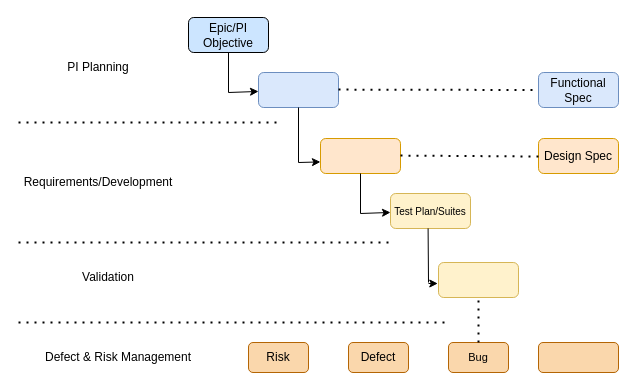
This 636x390 diagram has some shape labels left out. Here are the shapes that lost their labels. From the top down, the centre of each, then its label:
the point at 298,90: Feature
the point at 360,156: User Stories
the point at 478,280: Test cases
the point at 578,357: Change Requests
